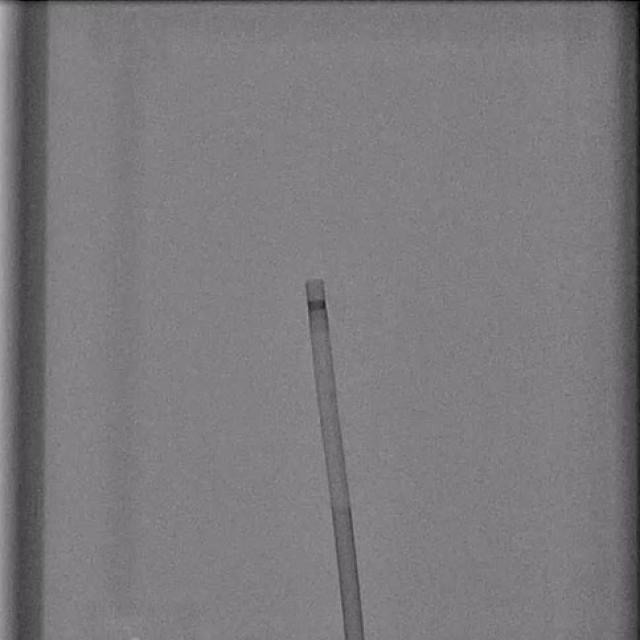bend: (331, 496, 349, 508)
entry: (346, 636, 365, 640)
marker: (307, 299, 327, 312)
tip: (306, 276, 323, 284)
